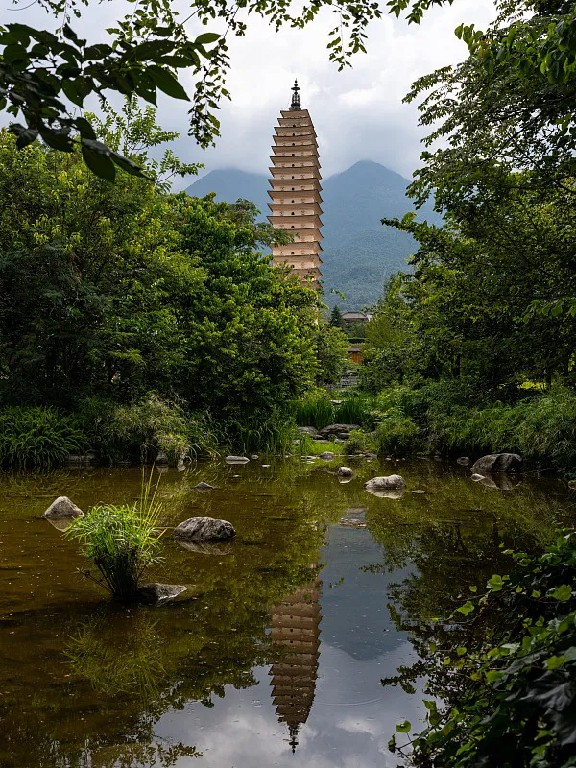ThreePagoda: (267, 79, 324, 289)
